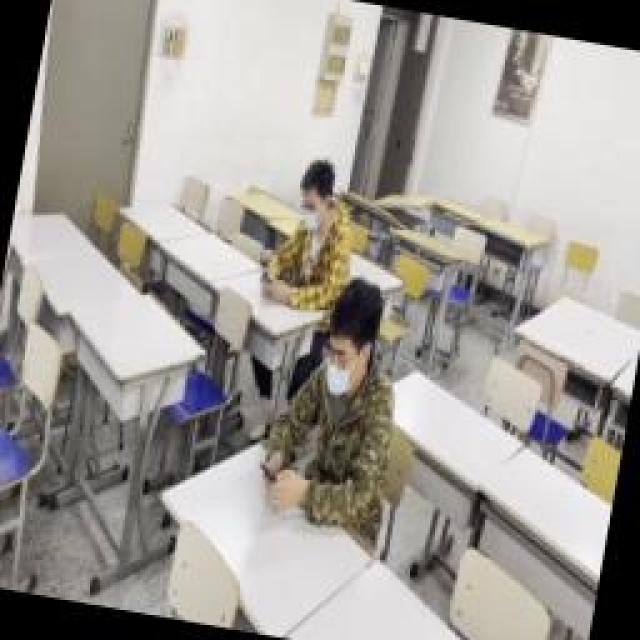phone: (255, 312, 407, 530), (260, 158, 355, 310)
